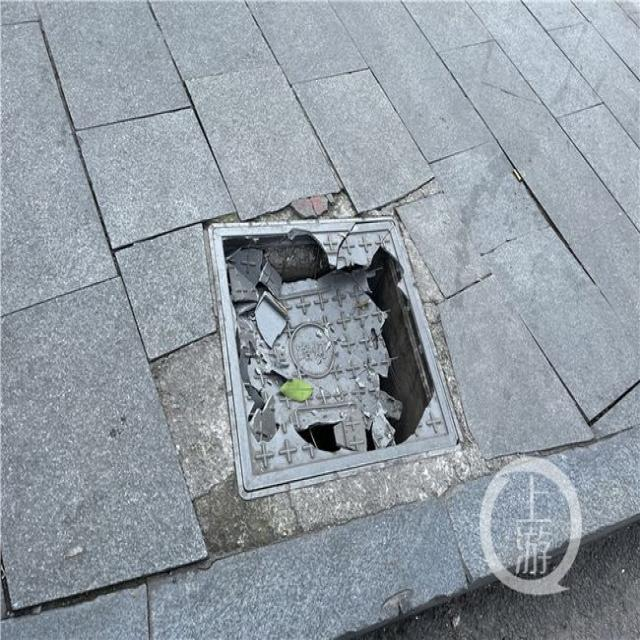manhole: (209, 217, 471, 491)
